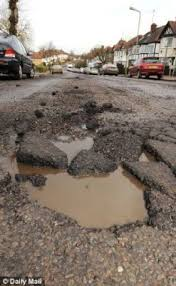pothole: (9, 92, 176, 246)
